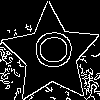O: (26, 29, 73, 71)
